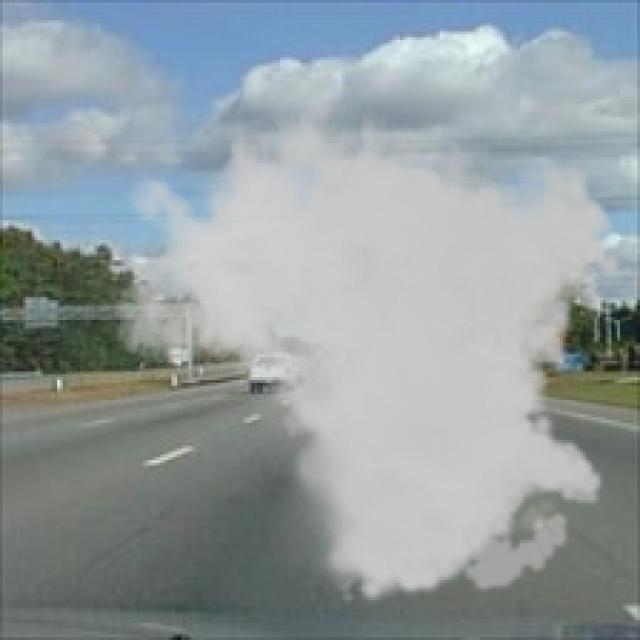smoke: (111, 71, 626, 606)
